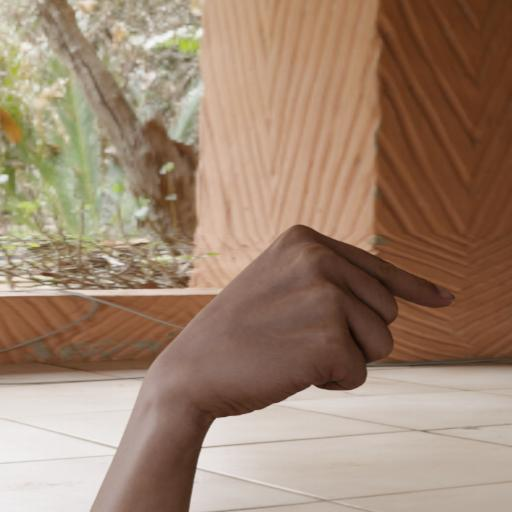G: (122, 197, 498, 480)
